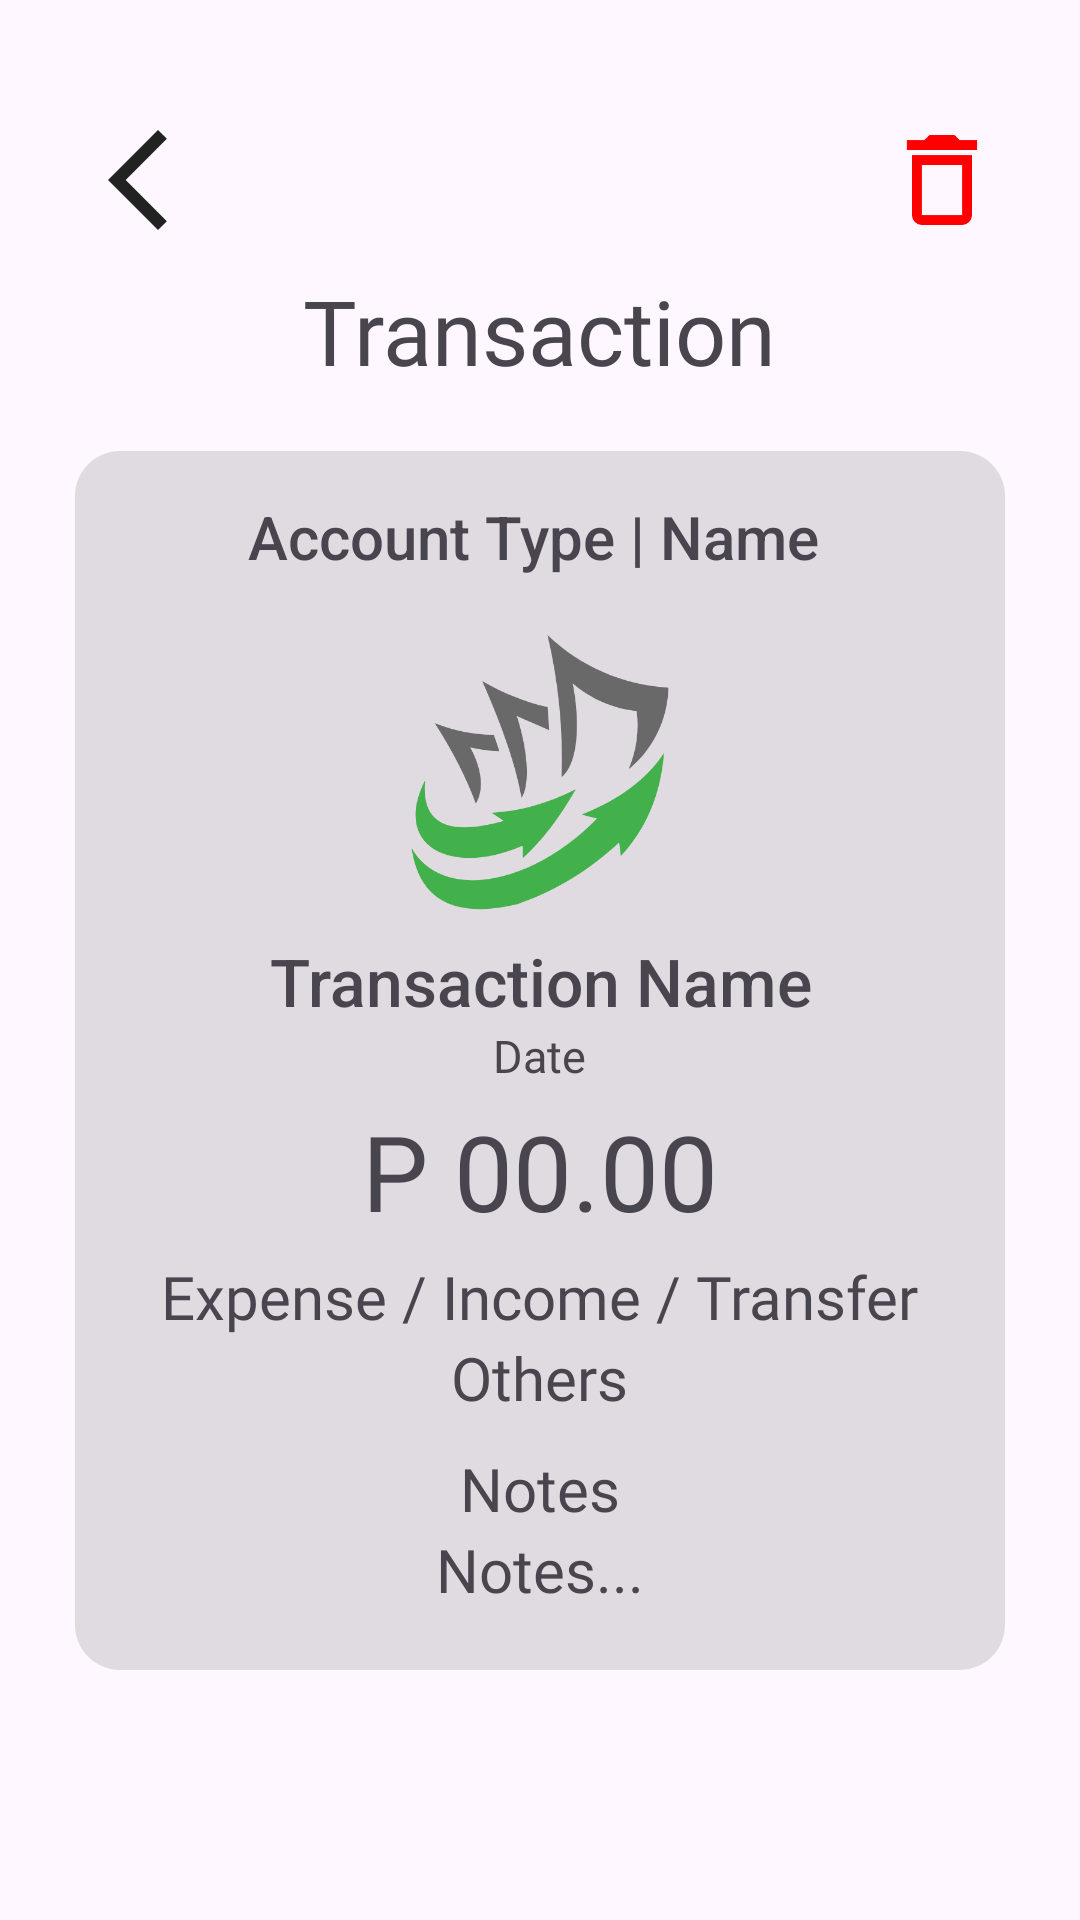

Where to tap for icons on this 1080px×1920px app screen, as (x,y):
Back Button: (137,180)
Delete Button: (942,180)
